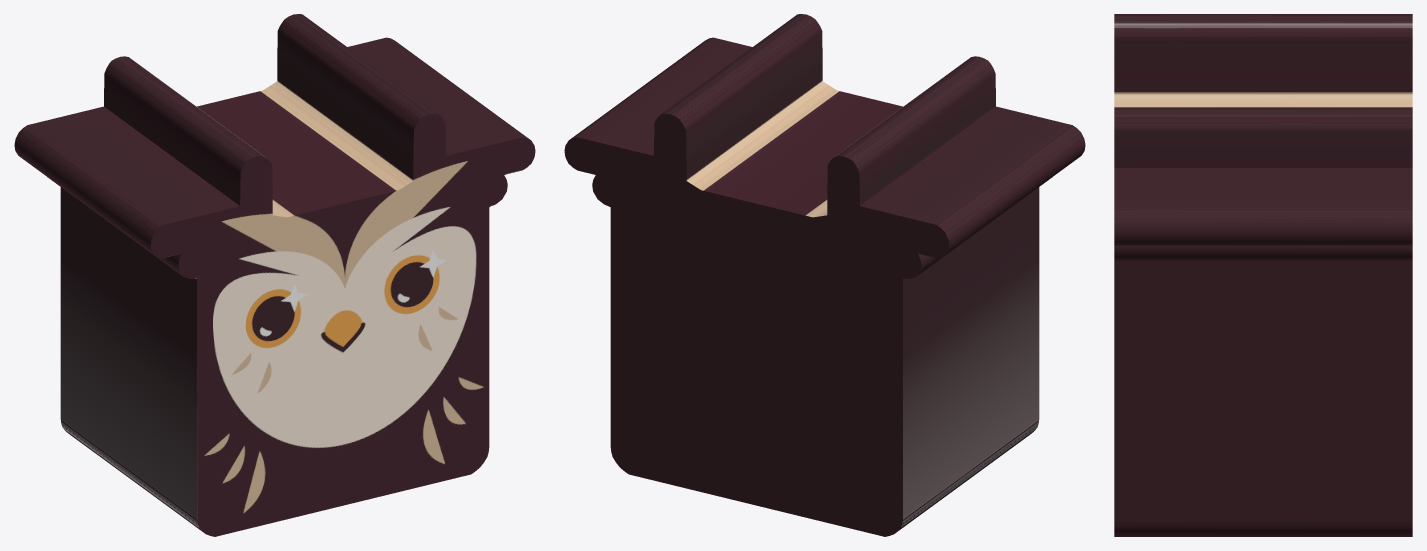
Rendered from Owl.obj.
3 renders of one model, left to right at view 1: azimuth 30°, elevation 25°; view 2: azimuth 150°, elevation 25°; view 3: azimuth 270°, elevation 25°, orthographic. The views are drawn at different scales.
Visible parts, largest first — view 1: owl; view 2: owl; view 3: owl.
Part boxes in pixels (x1=…): owl: x1=14, y1=14, x2=535, y2=536; owl: x1=564, y1=14, x2=1085, y2=536; owl: x1=1114, y1=14, x2=1412, y2=536.
Size of the model in its own units: 7.15 by 6.57 by 4.38.
